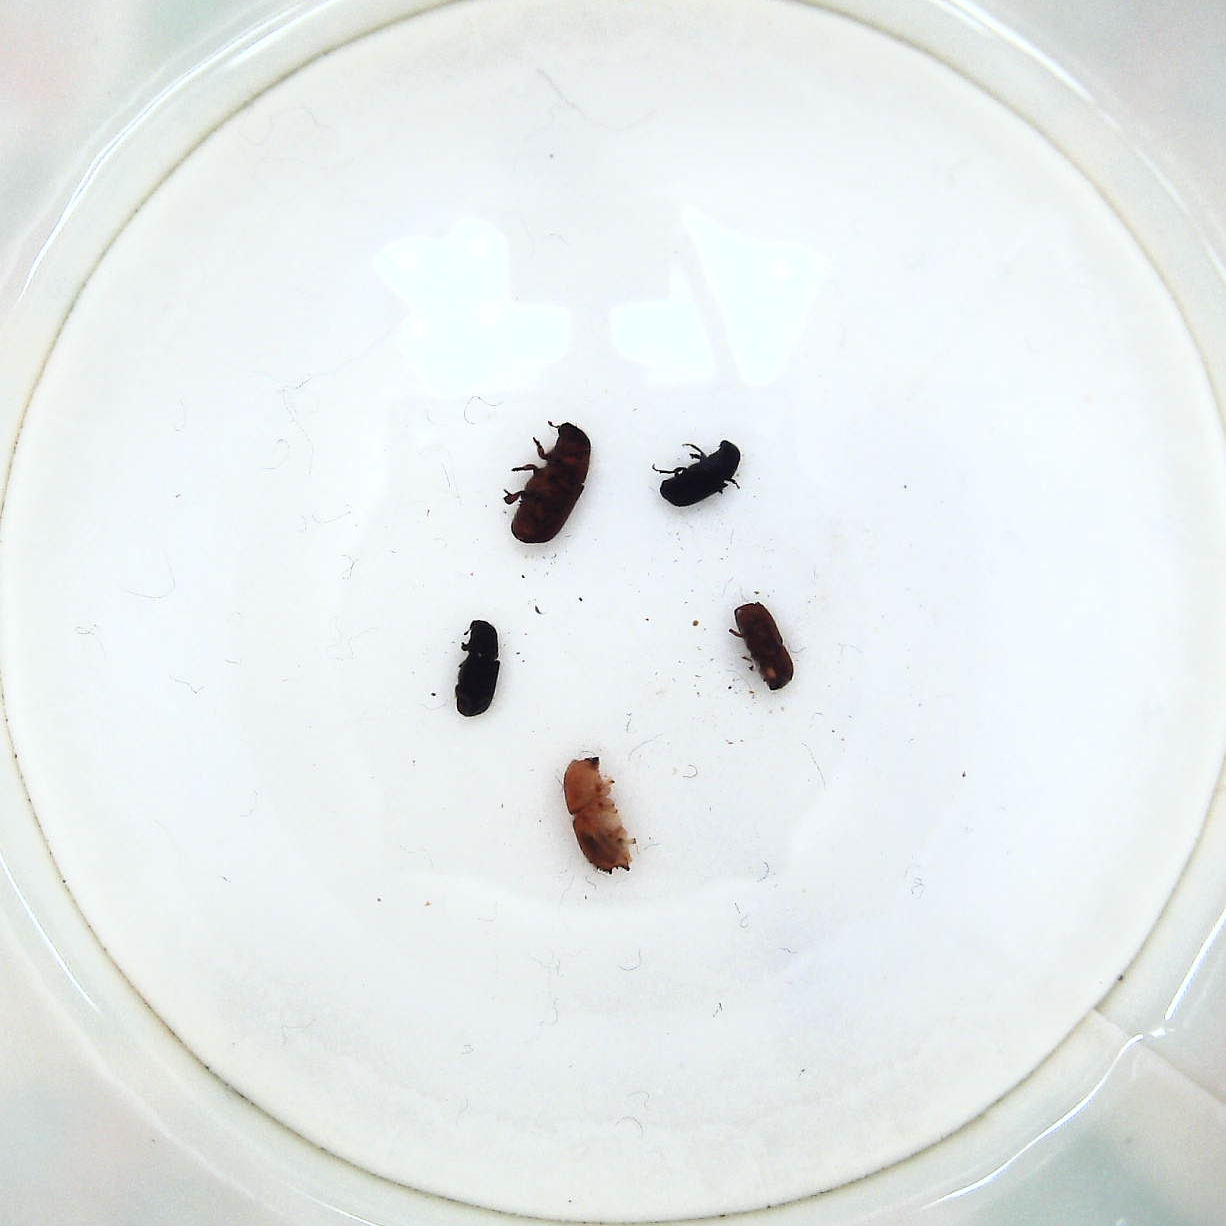Boerner: (561, 751, 641, 880)
Leconte: (497, 417, 600, 551)
armandi: (448, 616, 502, 721)
coleoptera: (656, 443, 753, 512)
linnaeus: (729, 597, 795, 699)
